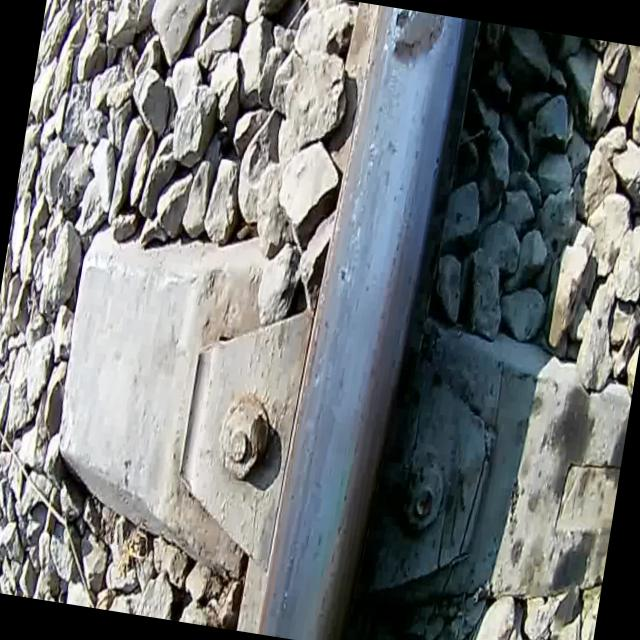Squats: (382, 8, 452, 76)
